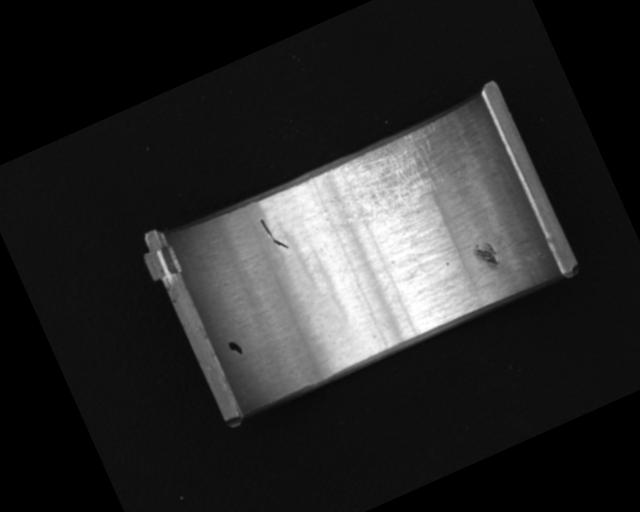blot: (225, 337, 244, 358)
bruise: (469, 236, 503, 274)
nick: (258, 212, 288, 254)
scratch: (312, 122, 463, 242)
